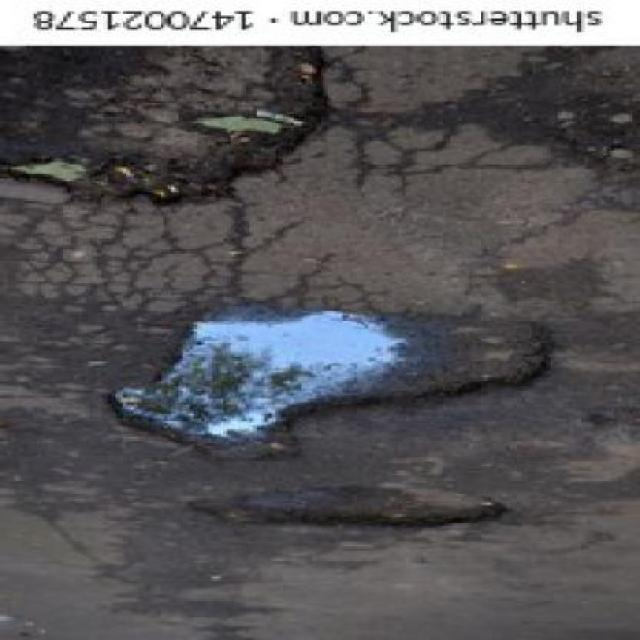Pothole: (111, 306, 551, 458), (0, 48, 328, 204), (190, 481, 508, 526)
